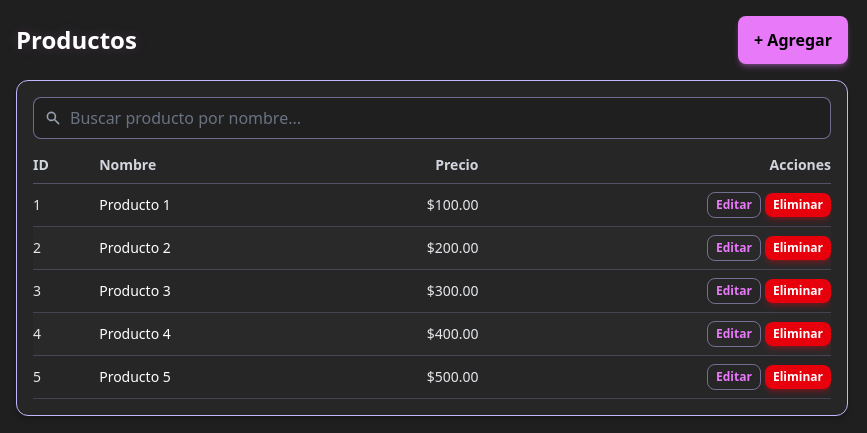
Test: Productos › filters products by search
This screenshot has width=867, height=433.
Type "Producto 3" into the field with placeholder "Buscar producto por nombre...". click: [432, 118]
box: left=33, top=97, right=831, bottom=139
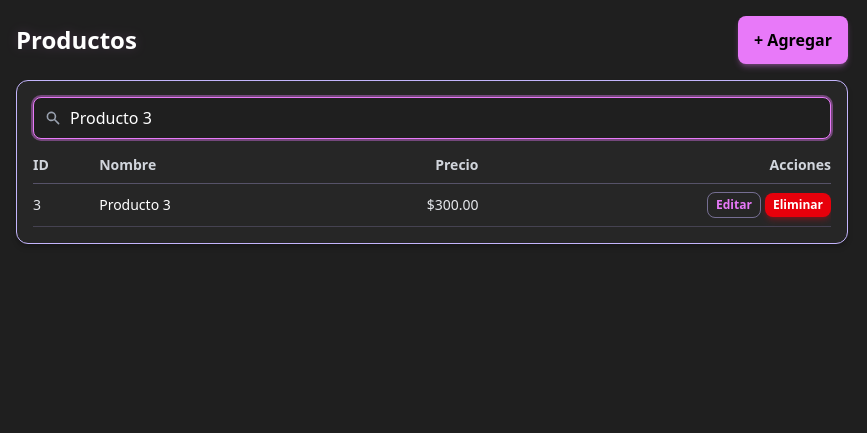
Expected: the text "Producto 3" is shown, left=99, top=184, right=320, bottom=226
Now the text "Producto 1" is gone
